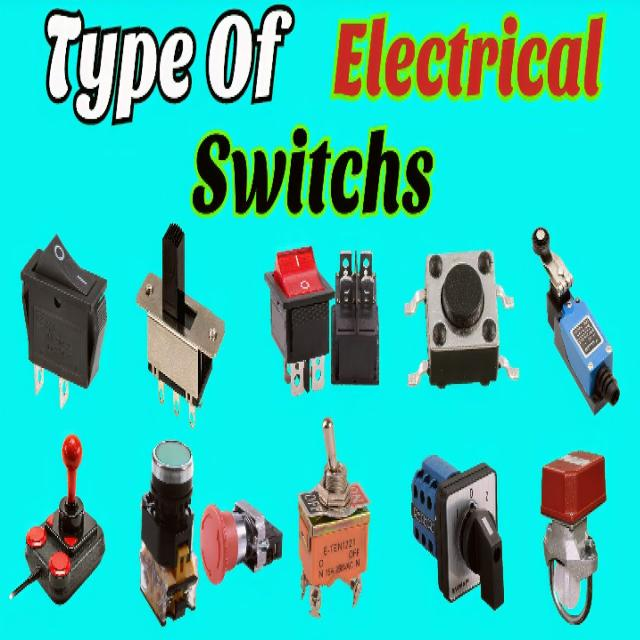Push button: (406, 245, 516, 392), (139, 438, 203, 629), (204, 451, 286, 586)
switch: (136, 221, 229, 426), (532, 226, 625, 414), (10, 434, 107, 609), (293, 416, 373, 622), (412, 445, 503, 612), (20, 237, 106, 406), (540, 448, 608, 628), (263, 248, 333, 399), (333, 249, 383, 388)
